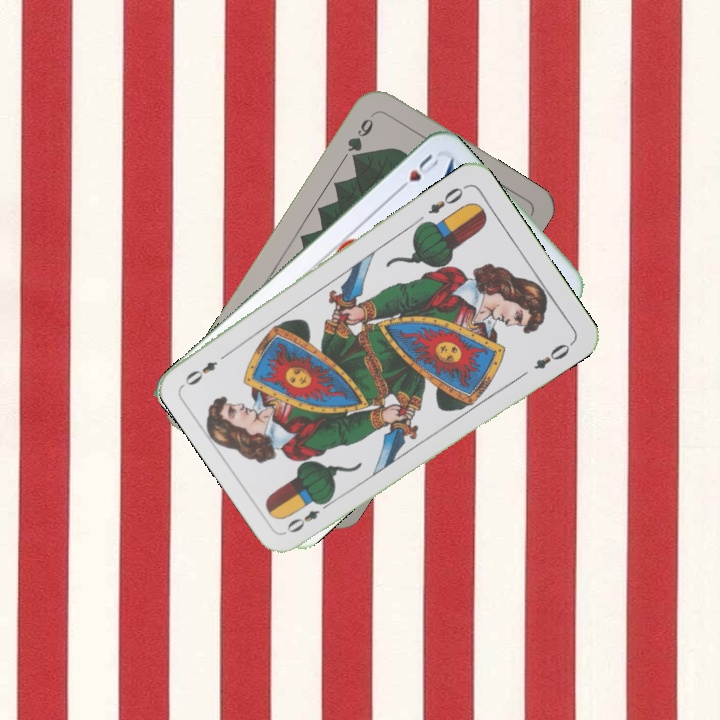EO: (282, 496, 334, 536), (424, 181, 469, 217)
G9: (343, 109, 378, 166)
HU: (392, 150, 442, 195)
